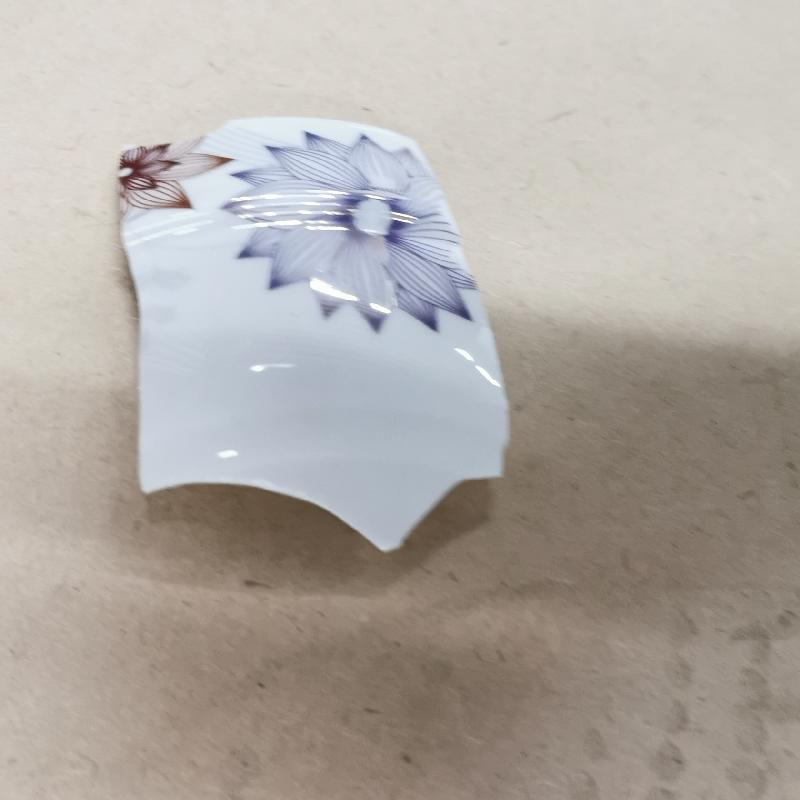ceram: (114, 114, 514, 553)
